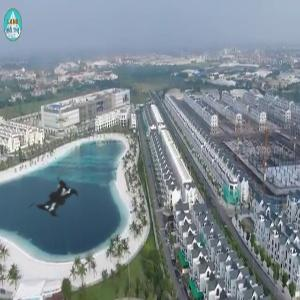drone: (4, 146, 108, 250)
